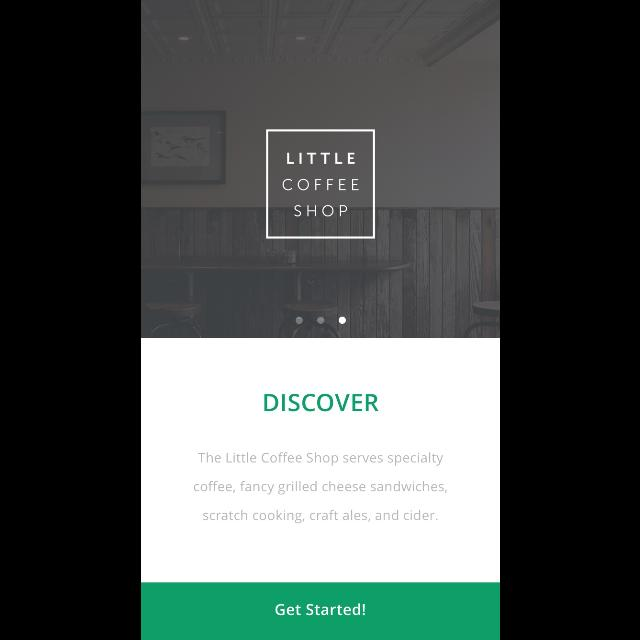image: (140, 1, 500, 339), (266, 129, 374, 239)
pageindicator: (296, 316, 346, 324)
text: (193, 452, 447, 524), (264, 394, 378, 412)
textbutton: (140, 582, 500, 640)
